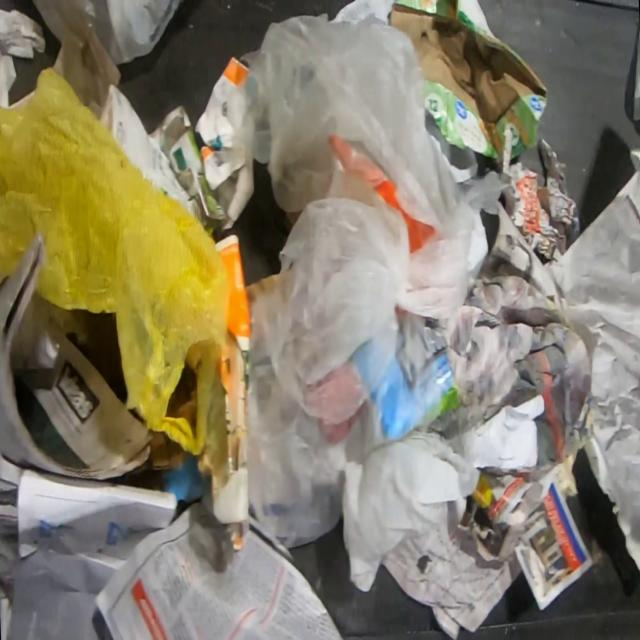cardboard: (389, 0, 548, 160), (194, 54, 256, 229), (148, 104, 228, 234)
soft_plastic: (225, 10, 509, 548), (0, 66, 230, 454), (29, 0, 180, 65)
